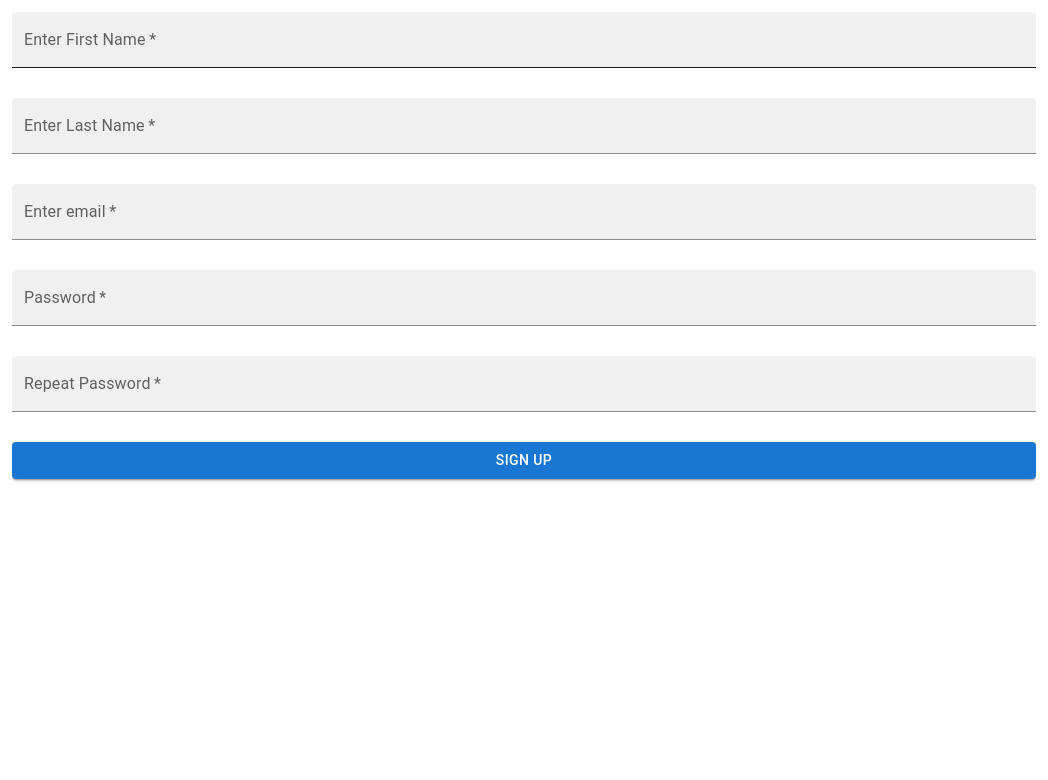
Scenario: user registration › has First name must be required
Click the button "Sign Up": click(524, 460) [12, 442, 1036, 478]
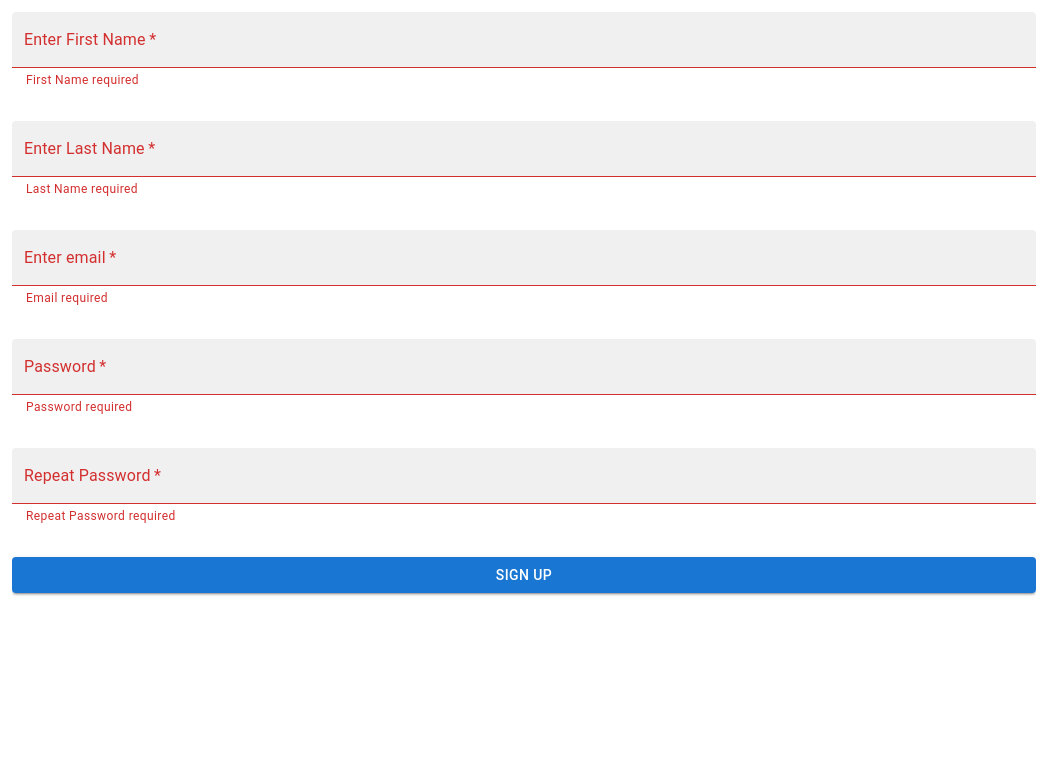
Result: the text "First Name required" is shown at [26, 73, 139, 87]
